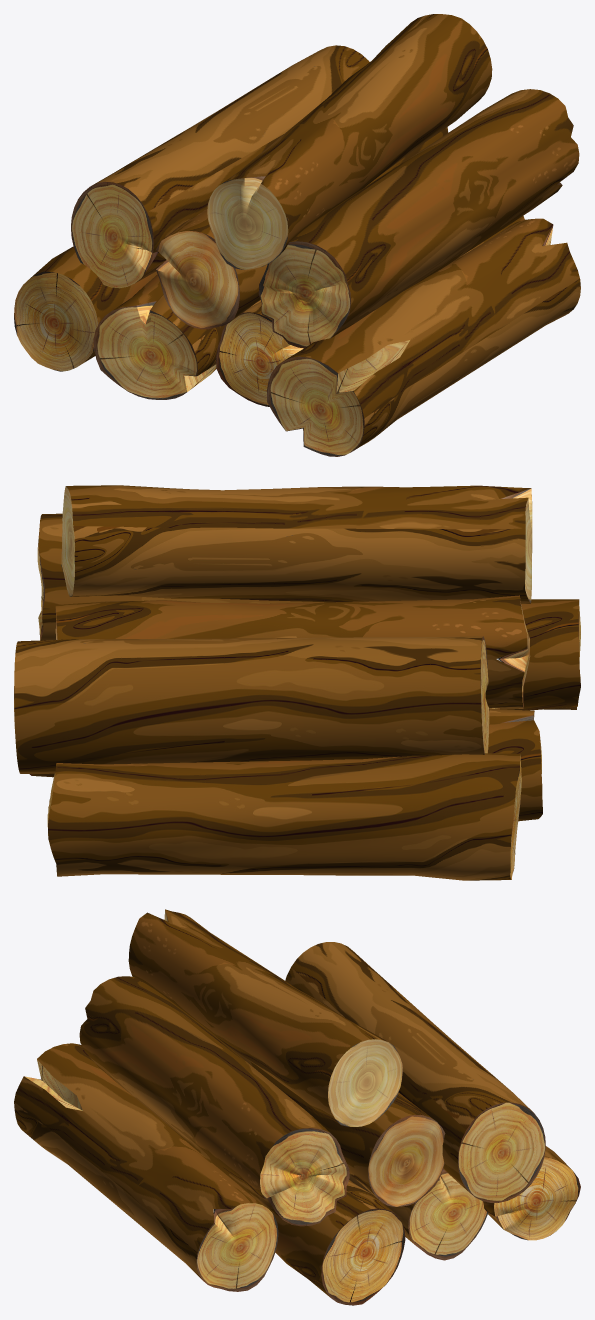
The model's file is low_poly_cartoon_log.glb.
The picture shows the model from 3 angles, top to bottom: view 1: azimuth 30°, elevation 25°; view 2: azimuth 150°, elevation 25°; view 3: azimuth 270°, elevation 25°; orthographic projection. The views are drawn at different scales.
Visible parts, largest first — view 1: Object_2, Object_3; view 2: Object_2, Object_3; view 3: Object_2, Object_3.
Boxes of the visible parts, bbox=[...] form: Object_2: bbox=[30, 14, 580, 450]; Object_3: bbox=[14, 176, 562, 456]; Object_2: bbox=[14, 485, 580, 880]; Object_3: bbox=[14, 486, 580, 879]; Object_2: bbox=[14, 909, 571, 1296]; Object_3: bbox=[24, 909, 580, 1305].
Bounding box in the file's own units: 1.13 × 0.5885 × 1.22.
2 materials, 2 textured.
